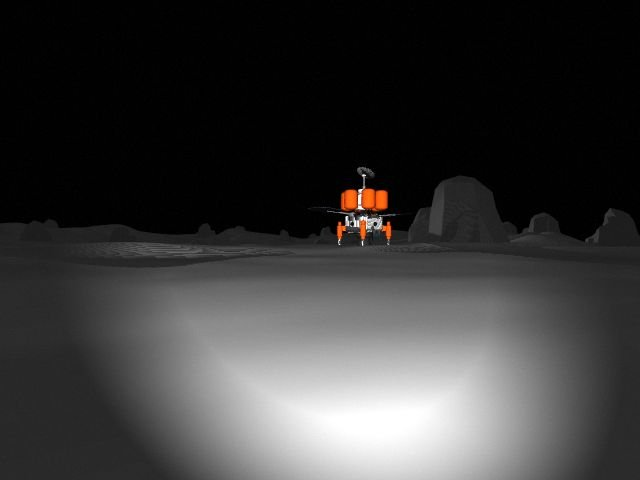homebase: (309, 164, 413, 249)
